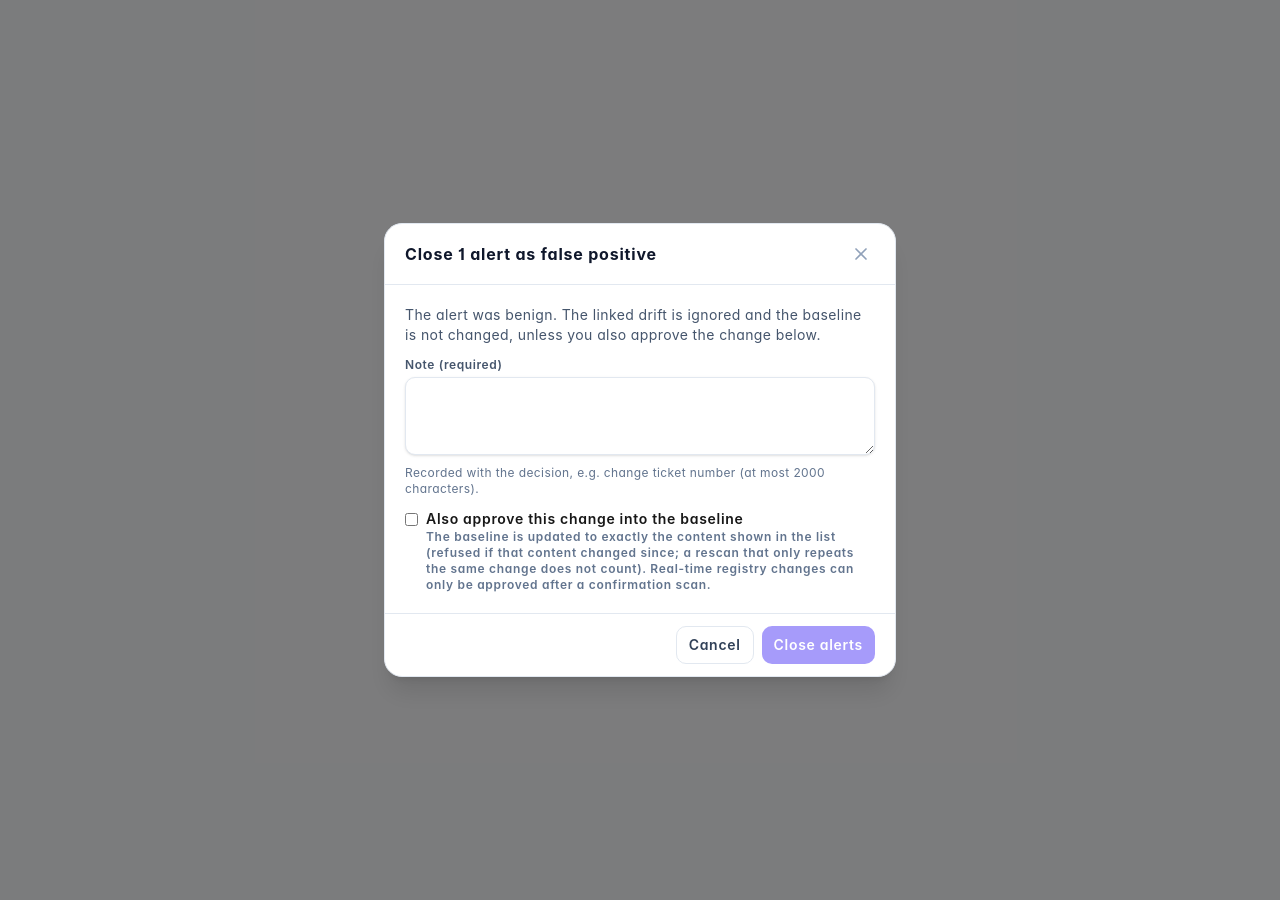
CloseModal (alerts, approveChange) › single alert 409 drift_changed keeps the modal open
This screenshot has width=1280, height=900.
In the text box labelled "Note (required)": (640, 416) [405, 377, 875, 455], type "benign"
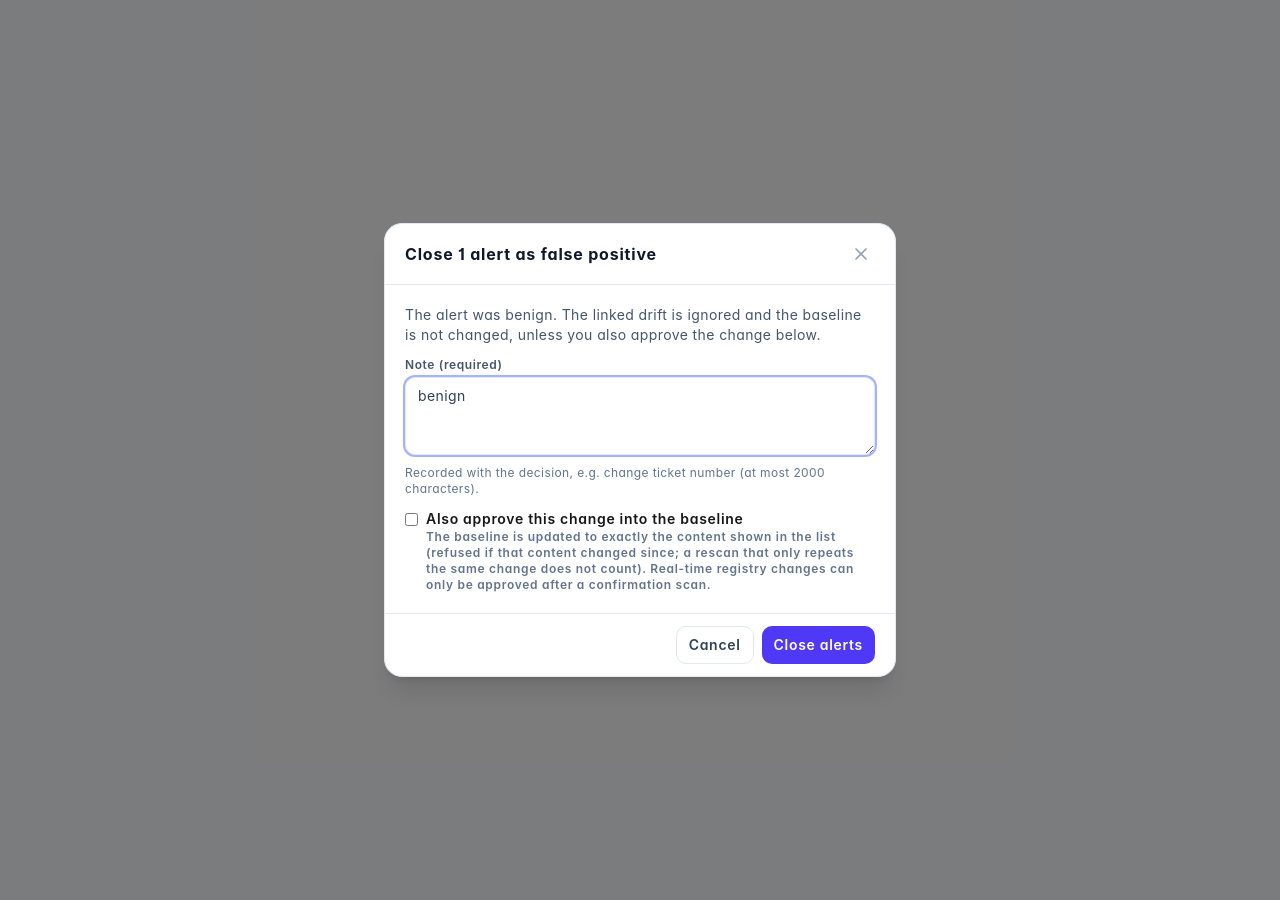
Click the checkbox labelled "Also approve this change": click(412, 520) [405, 513, 418, 526]
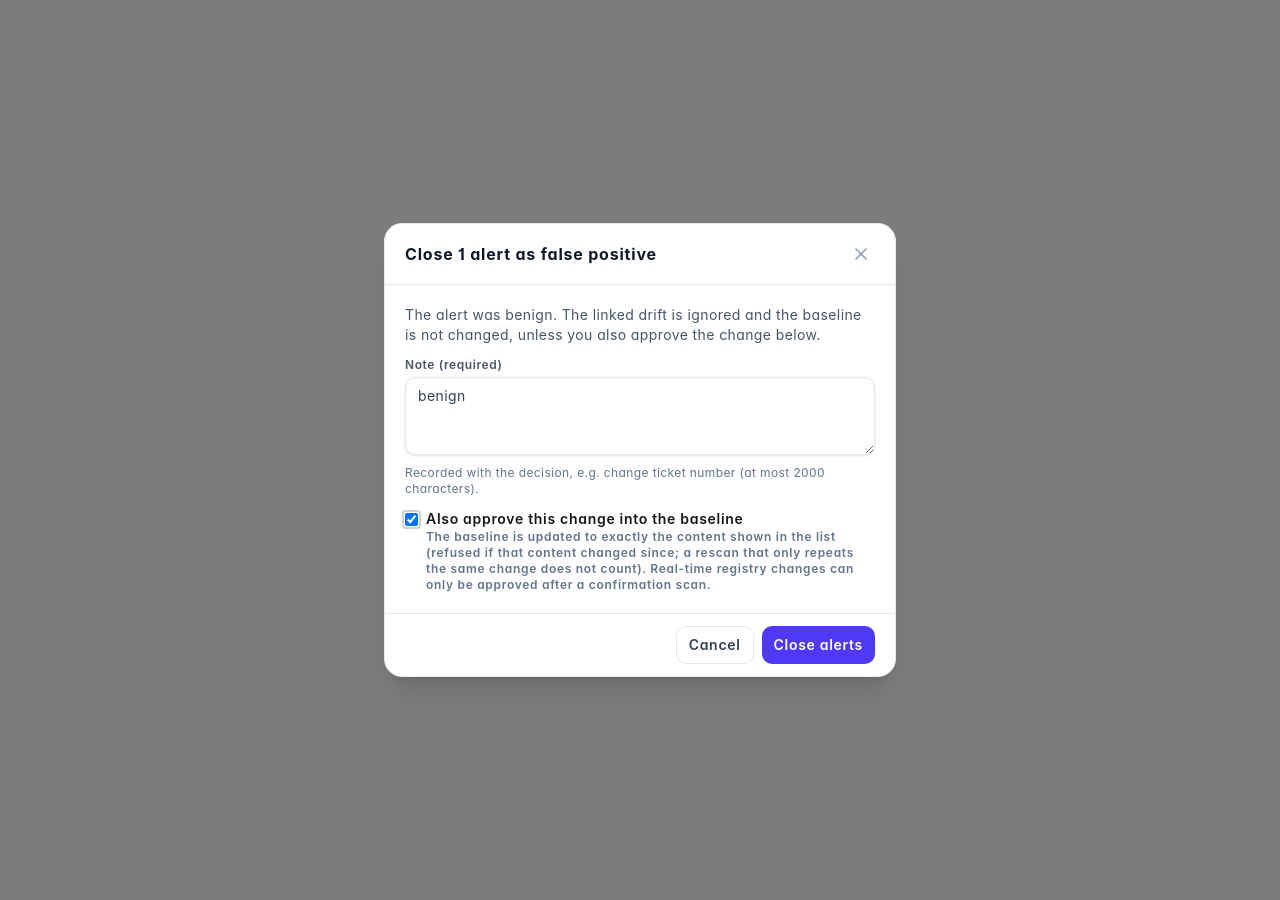
Click the button "Close alerts": click(818, 645) [762, 626, 875, 664]
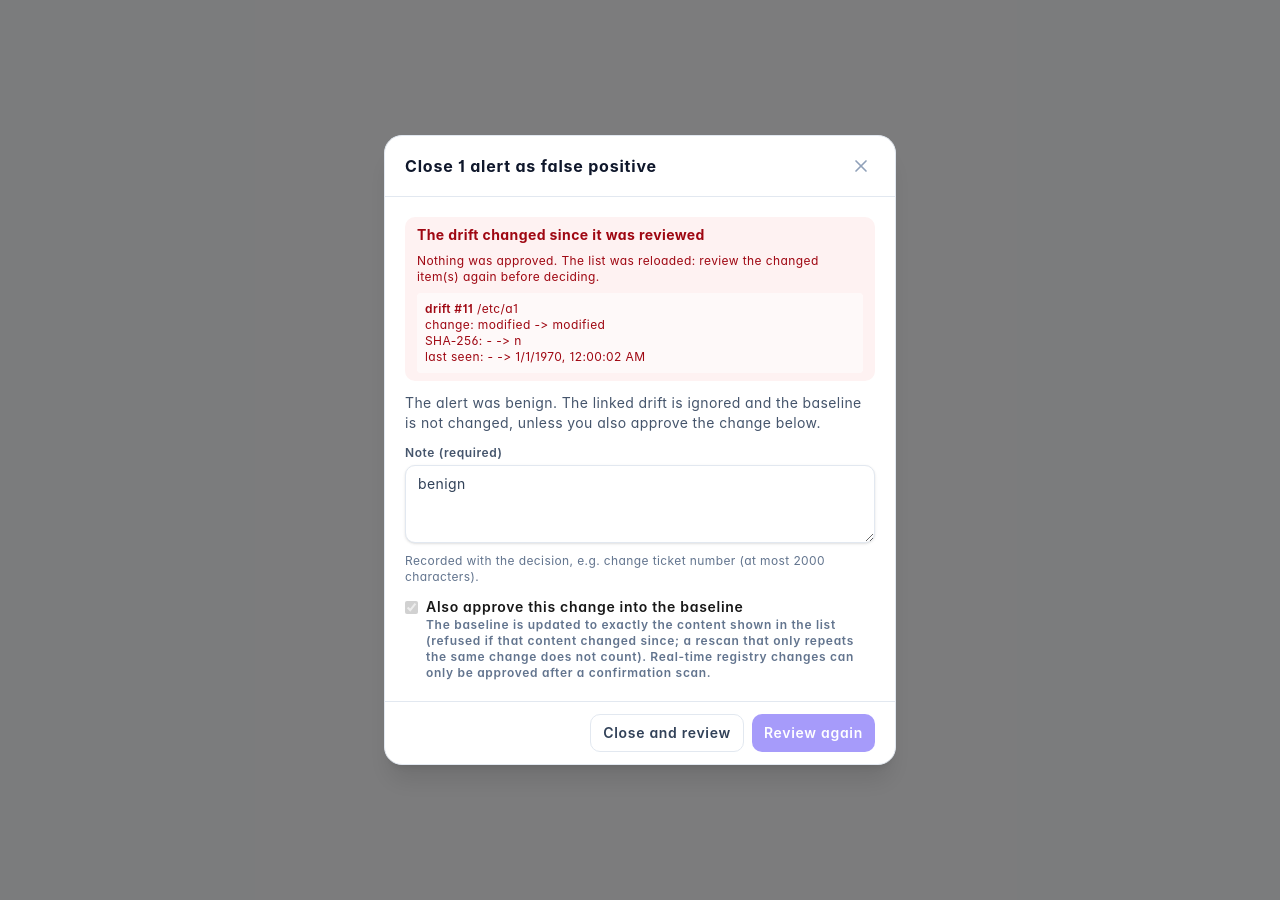
Check: the dialog is shown, box [384, 135, 896, 765]
Check: the text "The drift changed since it was reviewed" is shown, box [417, 226, 705, 243]
